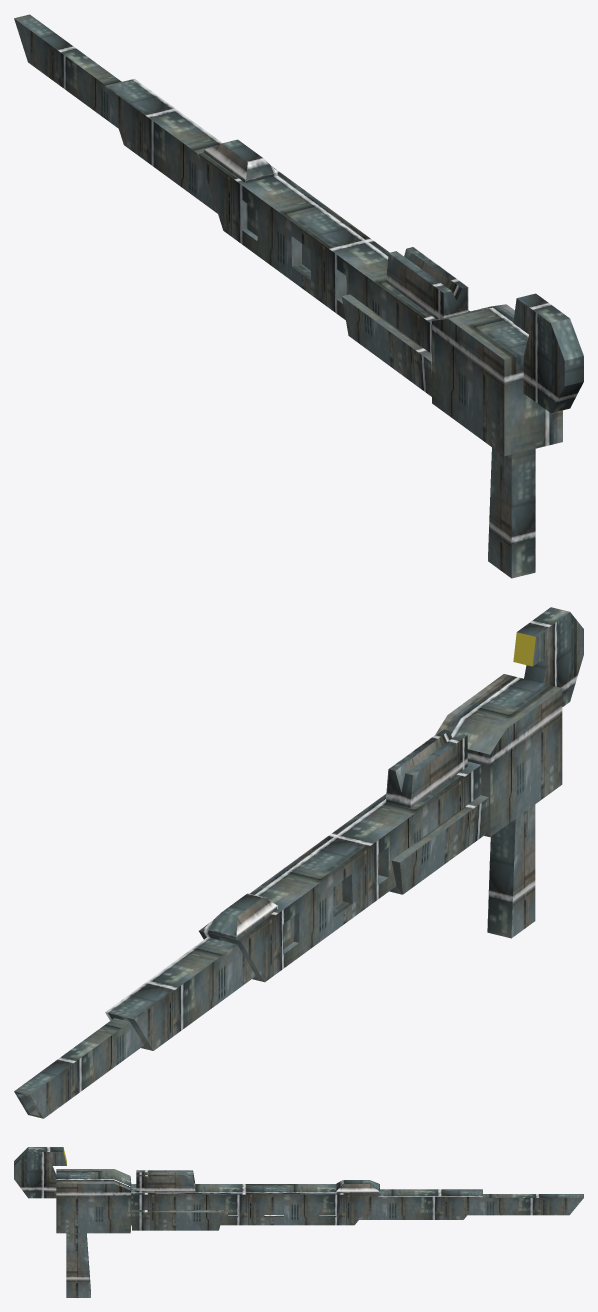
File: LinearRifle.gltf
The picture shows the model from 3 angles, top to bottom: view 1: azimuth 30°, elevation 25°; view 2: azimuth 150°, elevation 25°; view 3: azimuth 270°, elevation 25°; orthographic projection. The views are drawn at different scales.
Parts seen in each view (by area): view 1: Riner; view 2: Riner; view 3: Riner.
Part boxes in pixels (x1=…): Riner: x1=14, y1=14, x2=583, y2=578; Riner: x1=14, y1=607, x2=583, y2=1118; Riner: x1=14, y1=1147, x2=583, y2=1297.
Bounding box in the file's own units: 0.3665 × 1.68 × 5.99.
2 materials, 1 textured.
